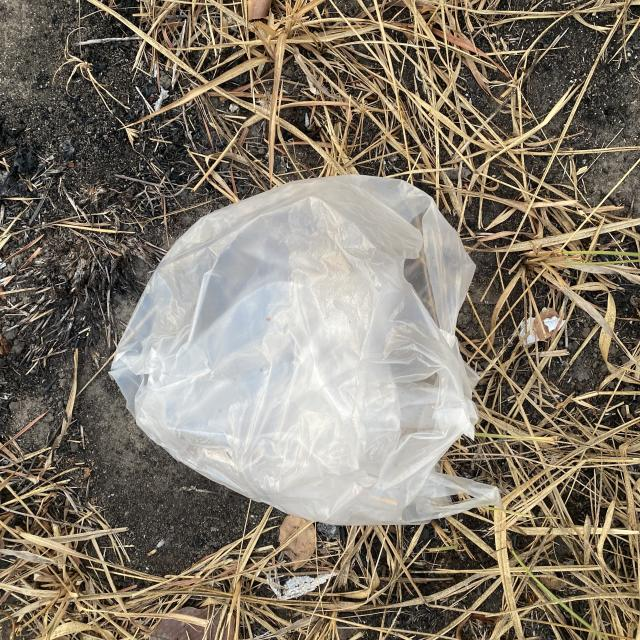Single-layer Plastic: (110, 175, 500, 525)
